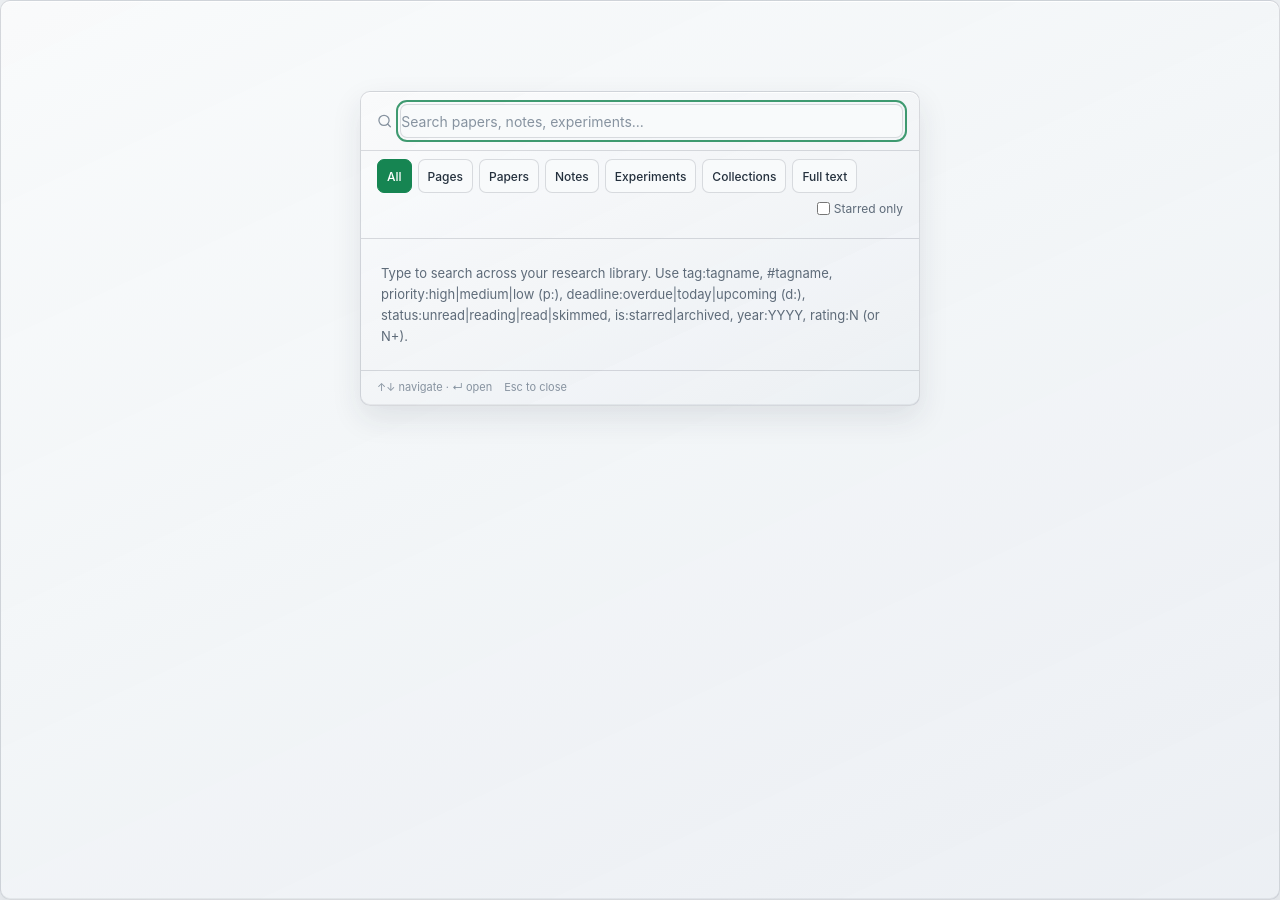
Test: GlobalSearch › exposes implemented research destinations while keeping diagnostics hidden
Step 1. Type "research" into the field with placeholder "Search papers, notes, experiments..." → [652, 121], box left=400, top=104, right=903, bottom=138
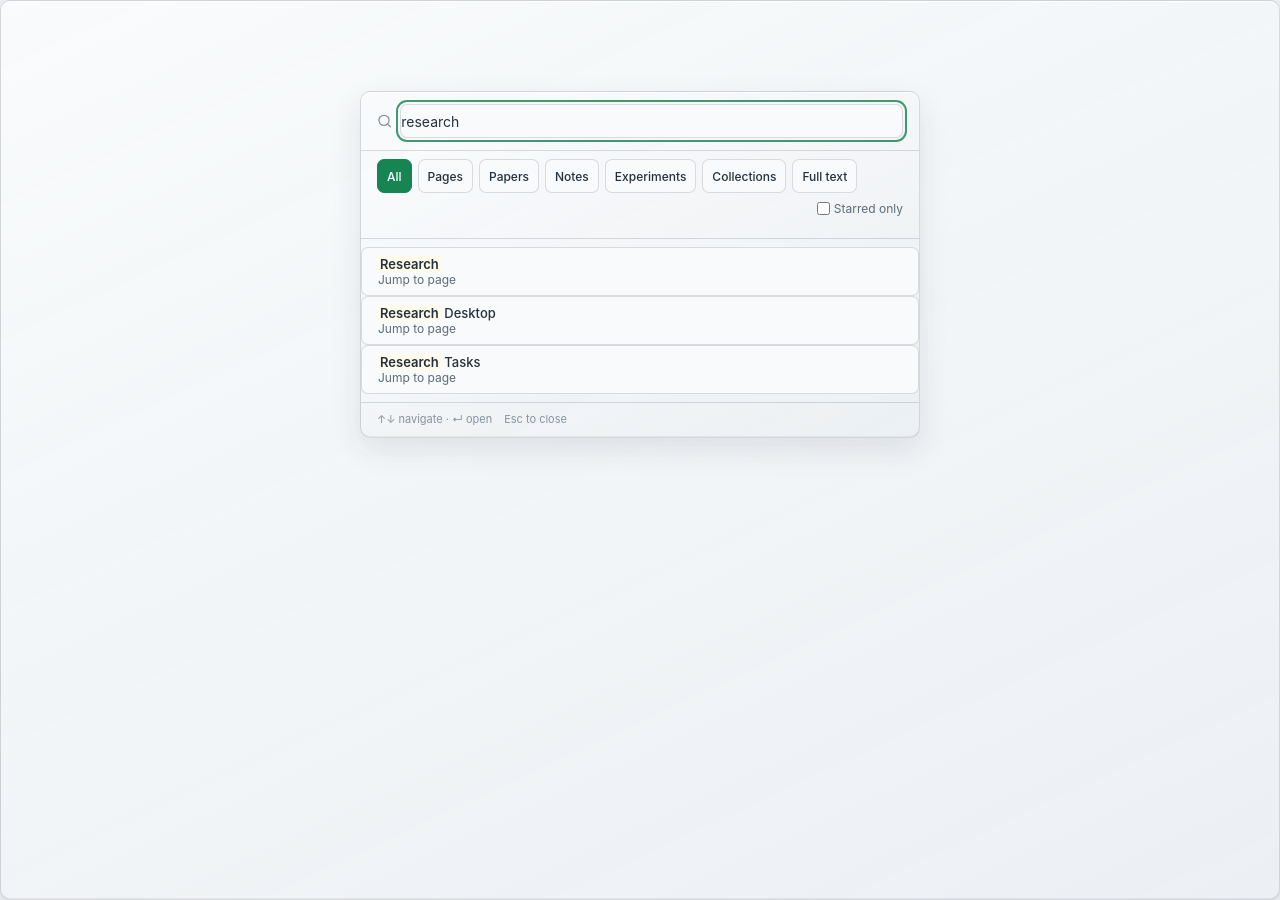
Step 2. Replace the text in the field with placeholder "Search papers, notes, experiments..." with "latex" → [652, 121], box left=400, top=104, right=903, bottom=138
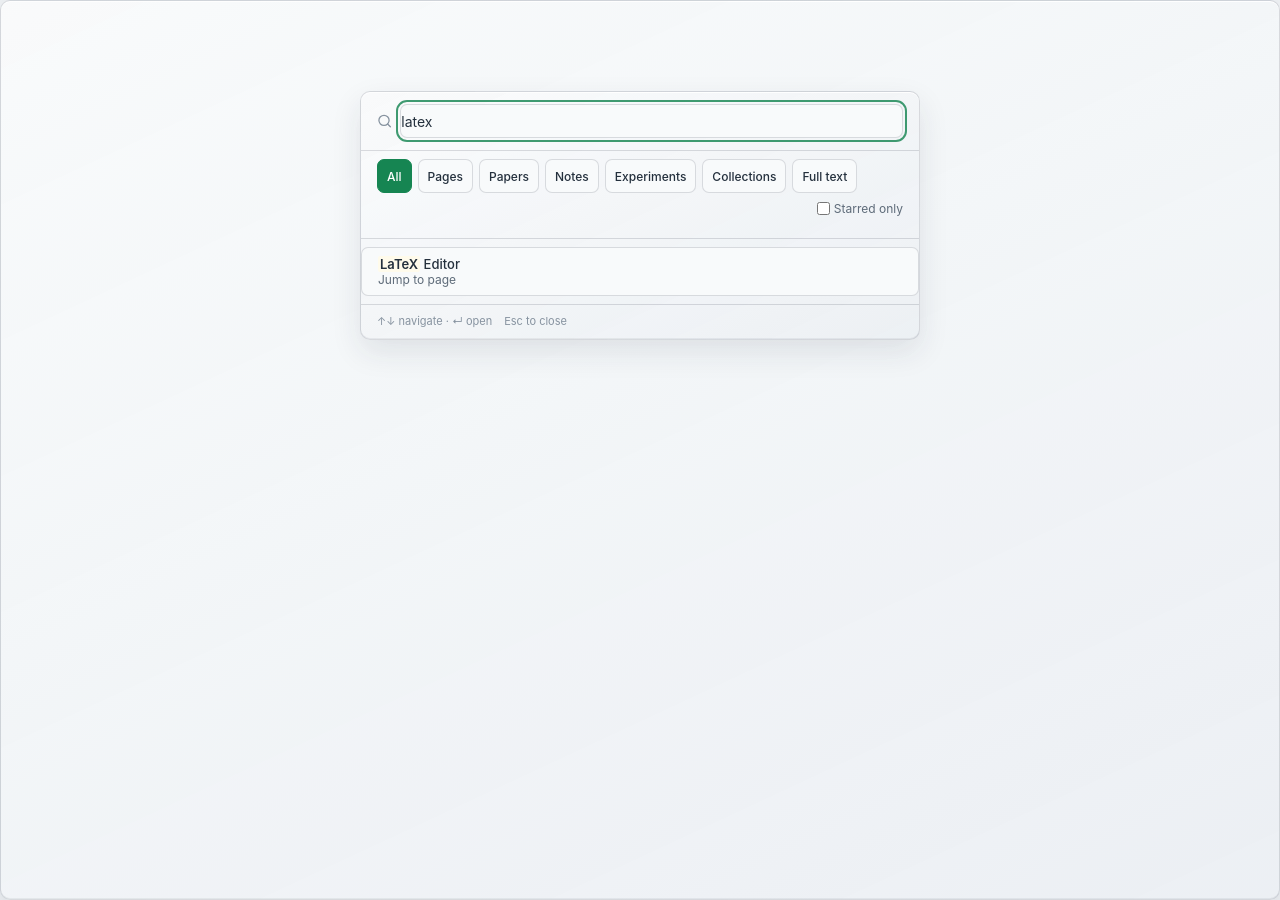
Step 3. Replace the text in the field with placeholder "Search papers, notes, experiments..." with "eval" → [652, 121], box left=400, top=104, right=903, bottom=138
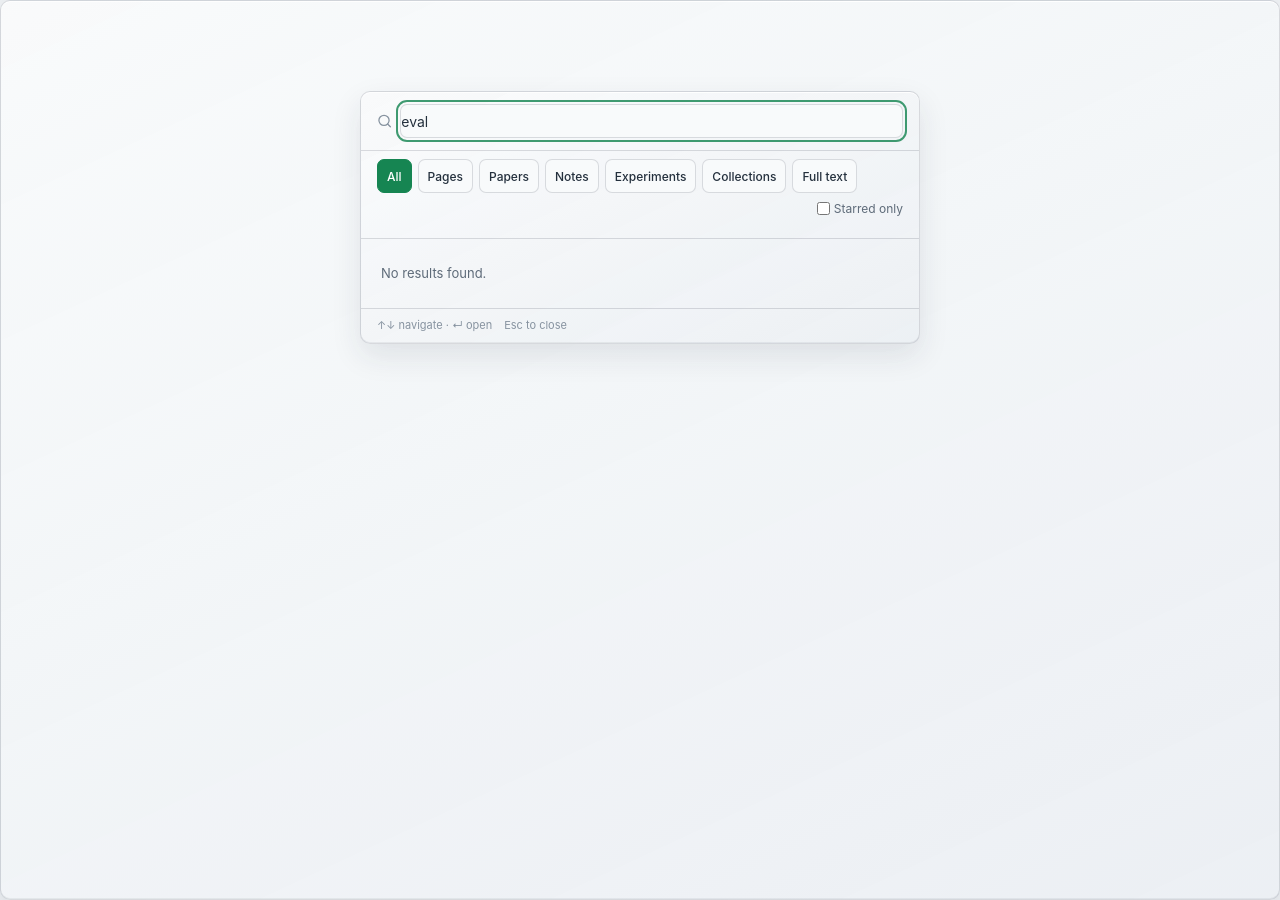
Expected: no buttons with test id "search-result" are shown
